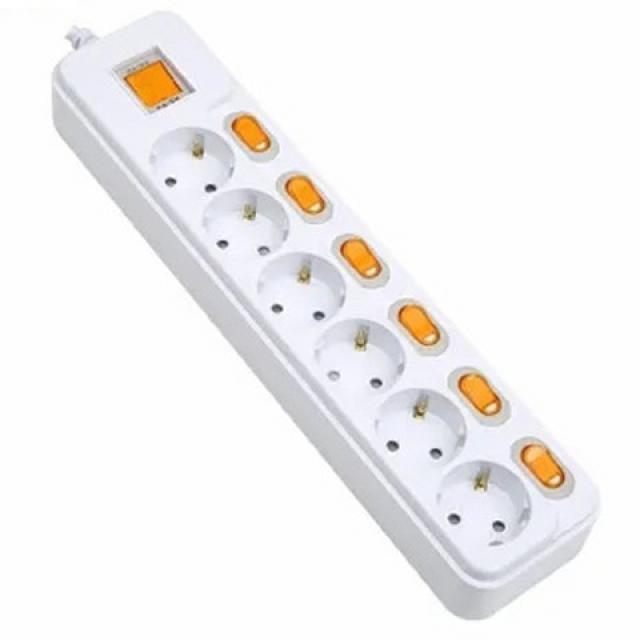typeb: (39, 2, 626, 638)
